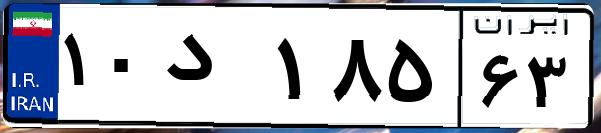0: (110, 28, 158, 98)
1: (270, 28, 330, 110), (57, 26, 110, 100)
3: (525, 38, 570, 115)
5: (385, 28, 445, 110)
6: (475, 38, 525, 113)
8: (330, 28, 385, 110)
د: (158, 20, 270, 120)
